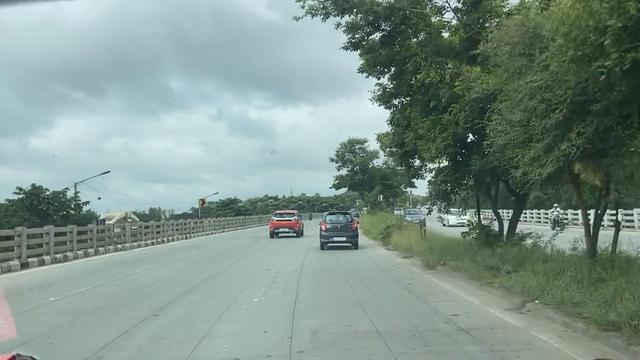LMV: (321, 208, 358, 252), (272, 209, 303, 232)
